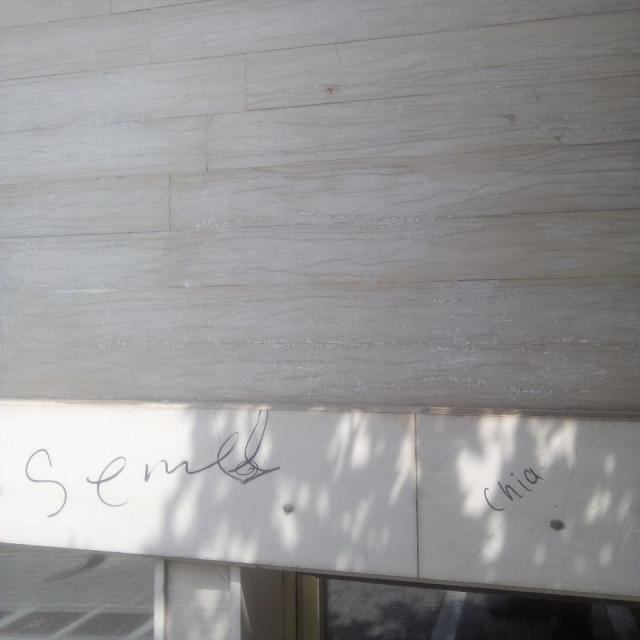nonspitting: (25, 432, 286, 519), (484, 466, 546, 514)
